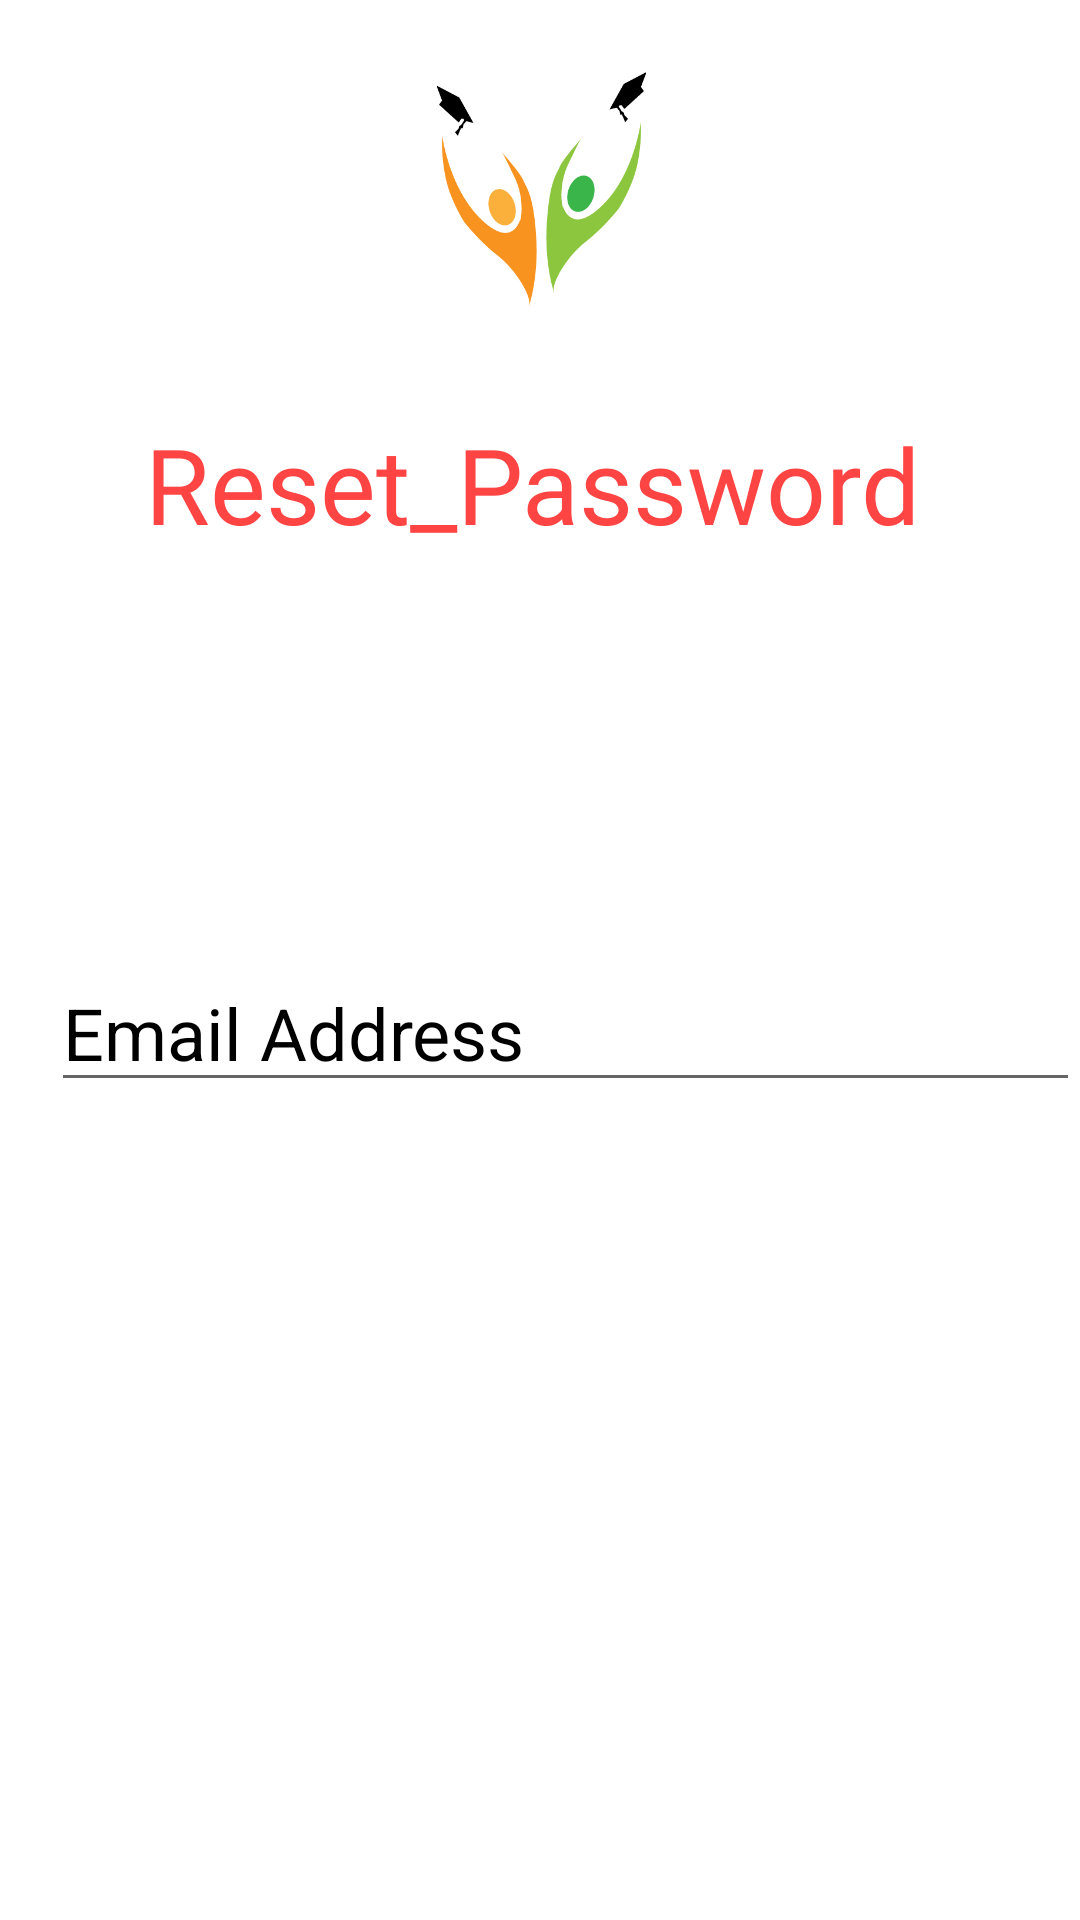

Icons on this 1080w x 1920h Android screen, each with its box as (x1, y1, x2, y2):
alumni: (437, 72, 646, 306)
